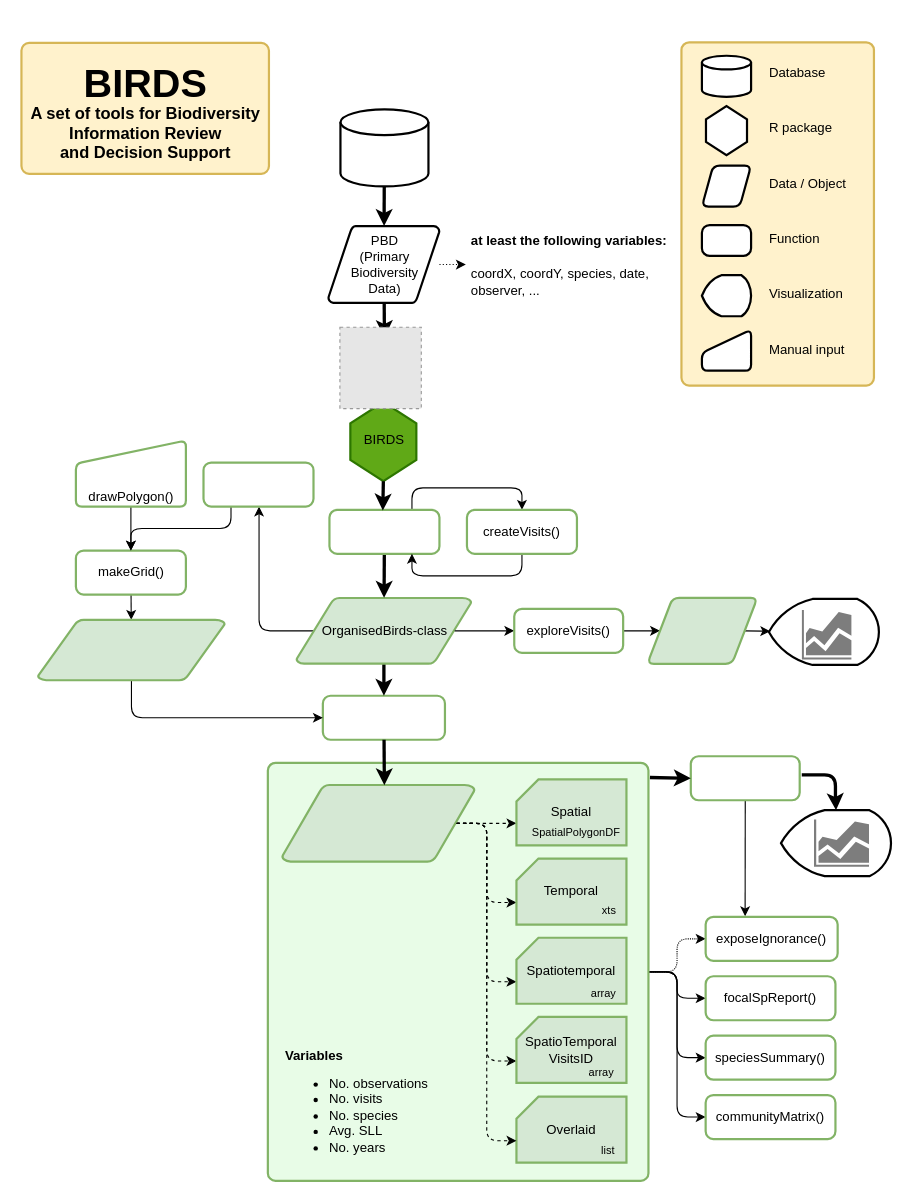
Some shapes in this 911 by 1200 pixel diagram are drawn without their labels. Grey dashed boxes stand in for pictures. Here are the shapes that lost their labels. From the top down, the centre of each, then its label:
At (384,147): "Biodiversity Database e.g. GBIF".
At (258,484): "OB2Polygon()".
At (384,531): "organiseBirds()".
At (131,649): "Grid SpatialPolygon-class".
At (702,630): "data.frame".
At (383,717): "summariseBirds()".
At (744,778): "exportBirds()".
At (377,822): "SummarisedBirds-class".
